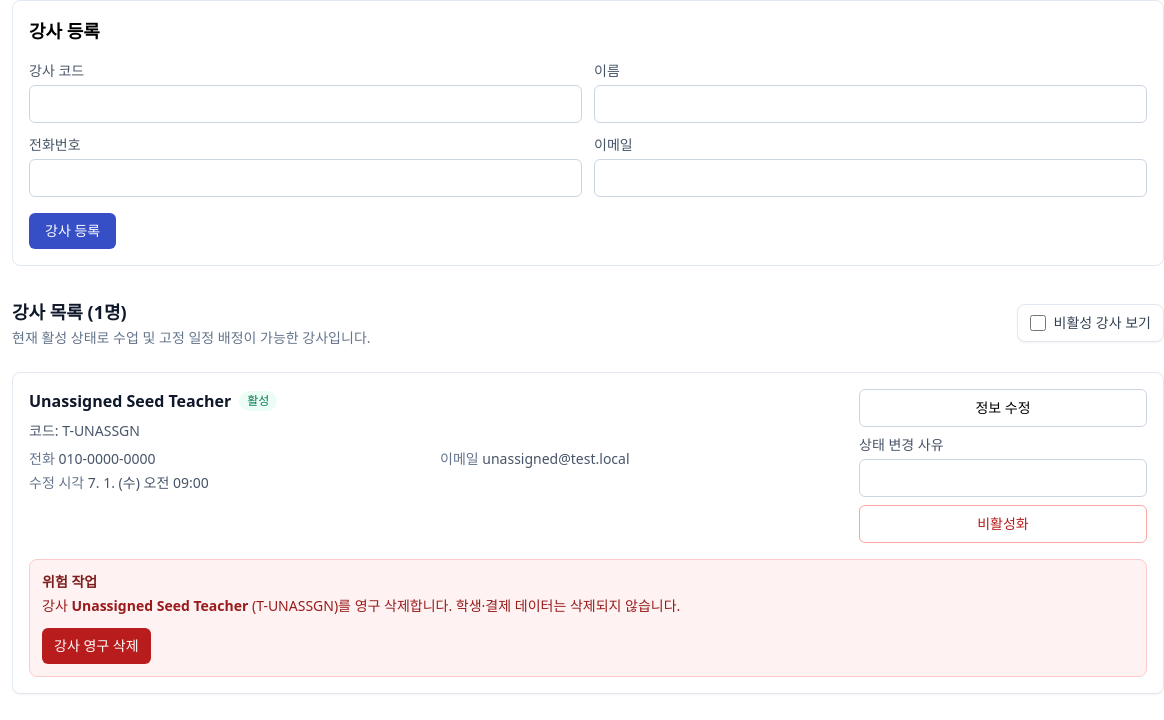
Test case: TeachersPanel › creates a teacher and appends it to the list
Type "T-NEW1" into the field with test id "teacher-create-code".
click(306, 104); type("T-NEW1")  # box x1=29 y1=85 x2=582 y2=123
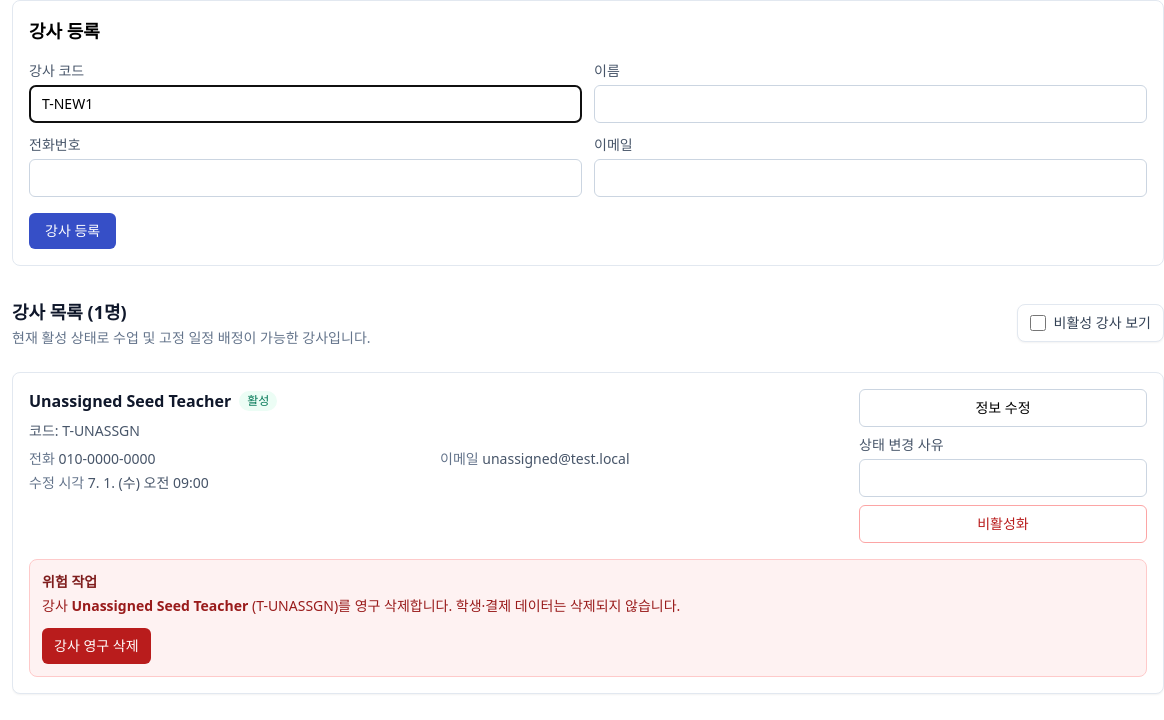
Type "New Teacher" into the field with test id "teacher-create-name".
click(870, 104); type("New Teacher")  # box x1=594 y1=85 x2=1147 y2=123
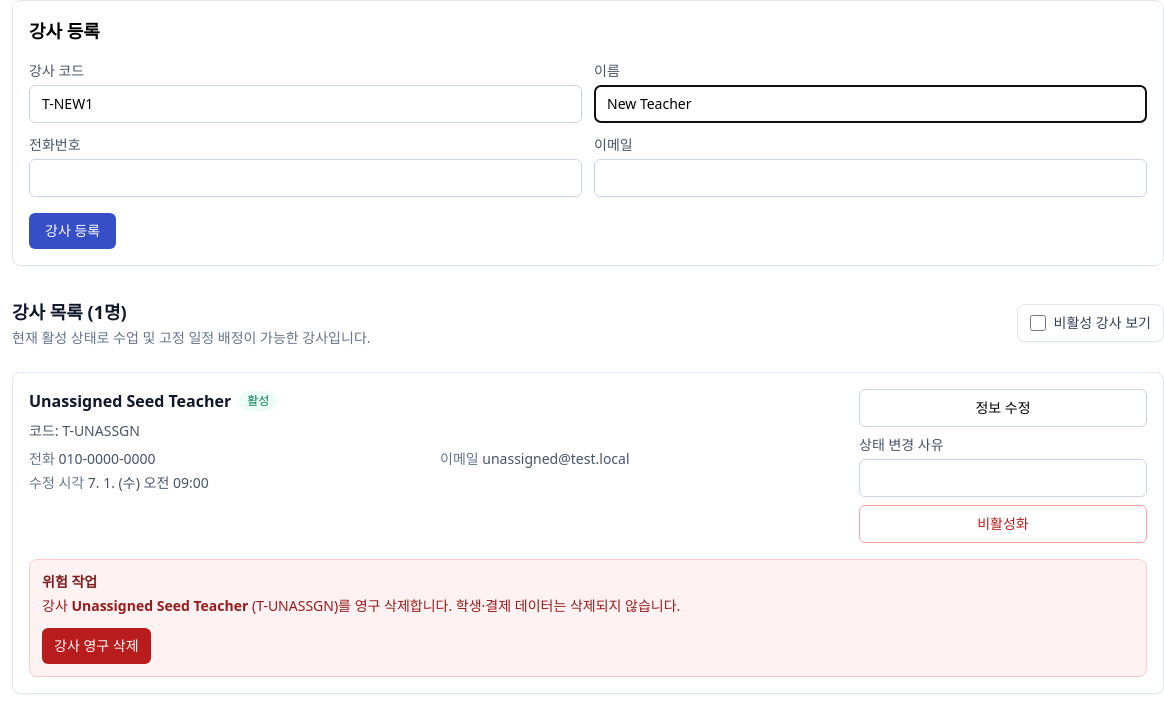
Type "010-1111-2222" into the field with test id "teacher-create-phone".
click(306, 178); type("010-1111-2222")  # box x1=29 y1=159 x2=582 y2=197
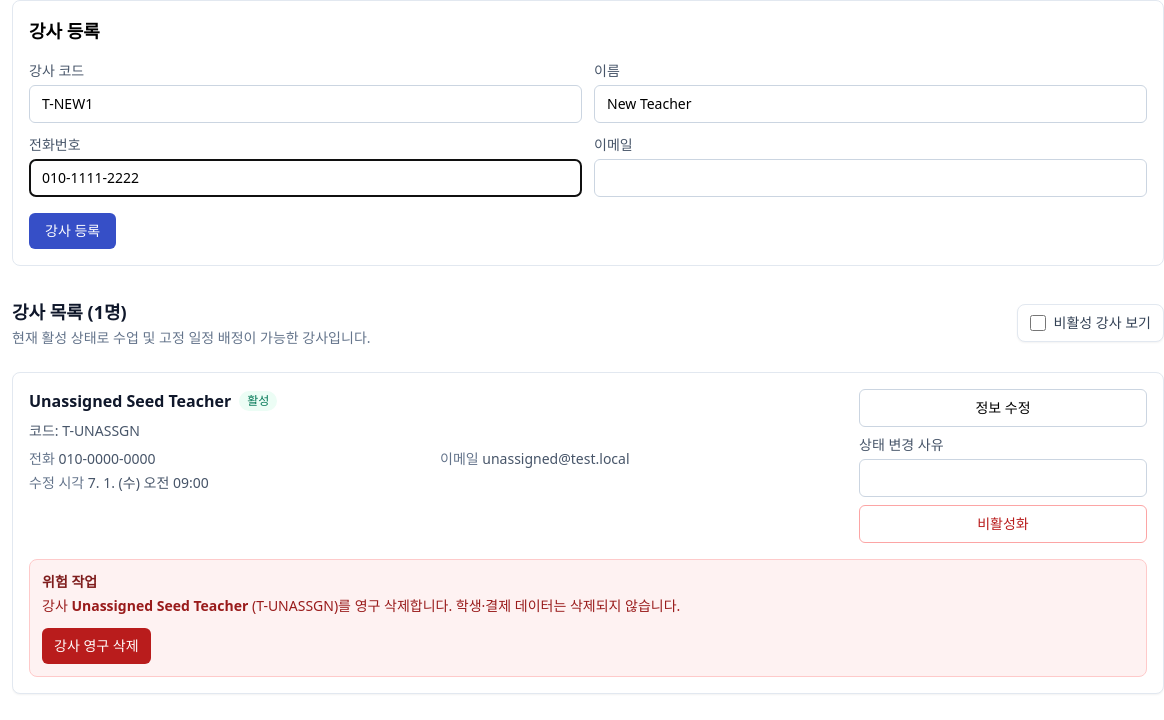
Type "new@test.local" into the field with test id "teacher-create-email".
click(870, 178); type("new@test.local")  # box x1=594 y1=159 x2=1147 y2=197
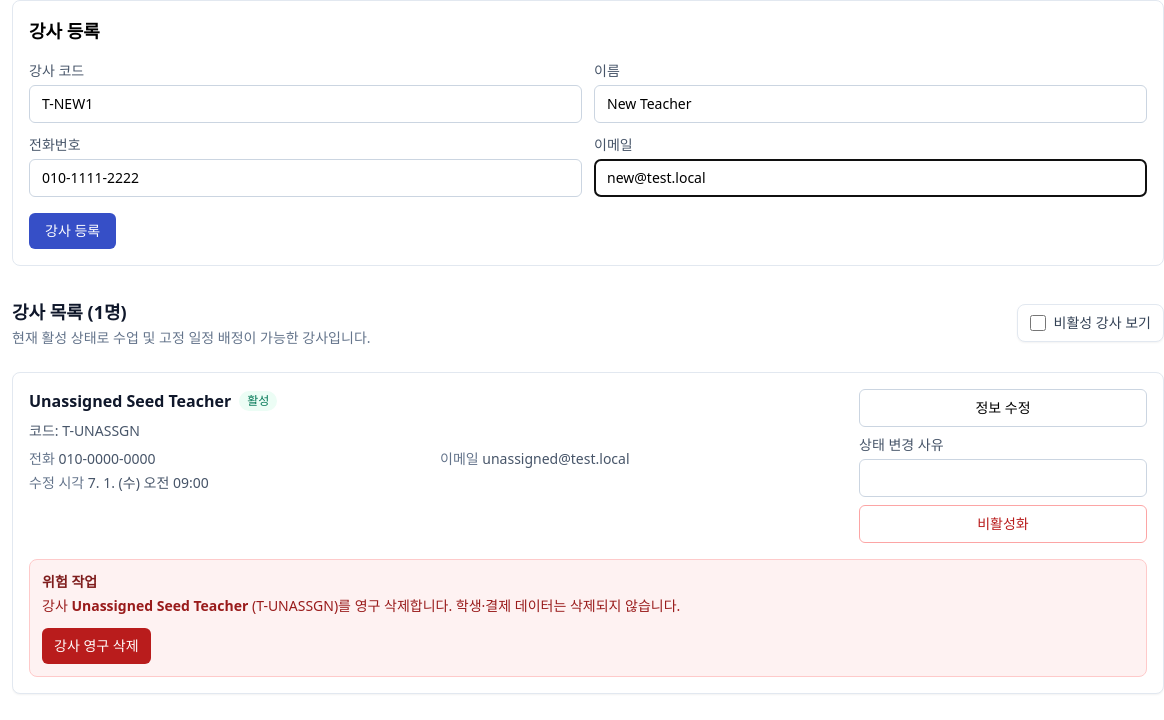
Click the button with test id "teacher-create-submit".
click(73, 231)  # box x1=29 y1=213 x2=116 y2=249
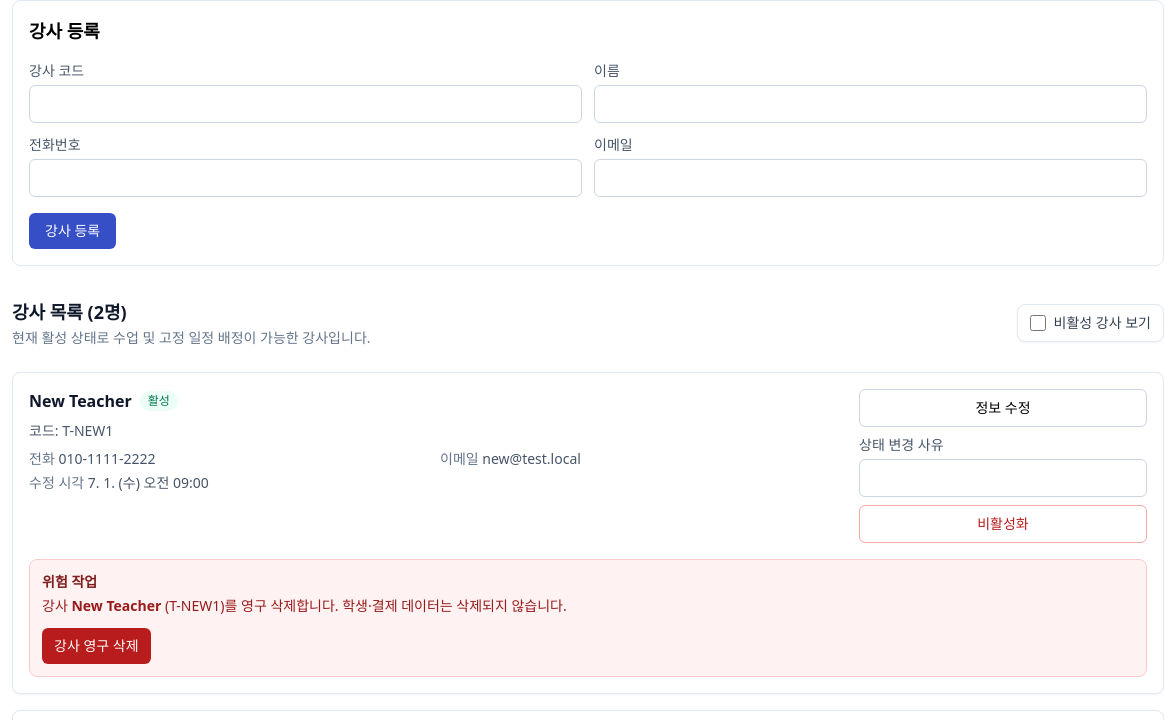
Result: the element with test id "teacher-item-T-NEW1" is shown at x1=12 y1=372 x2=1163 y2=694
